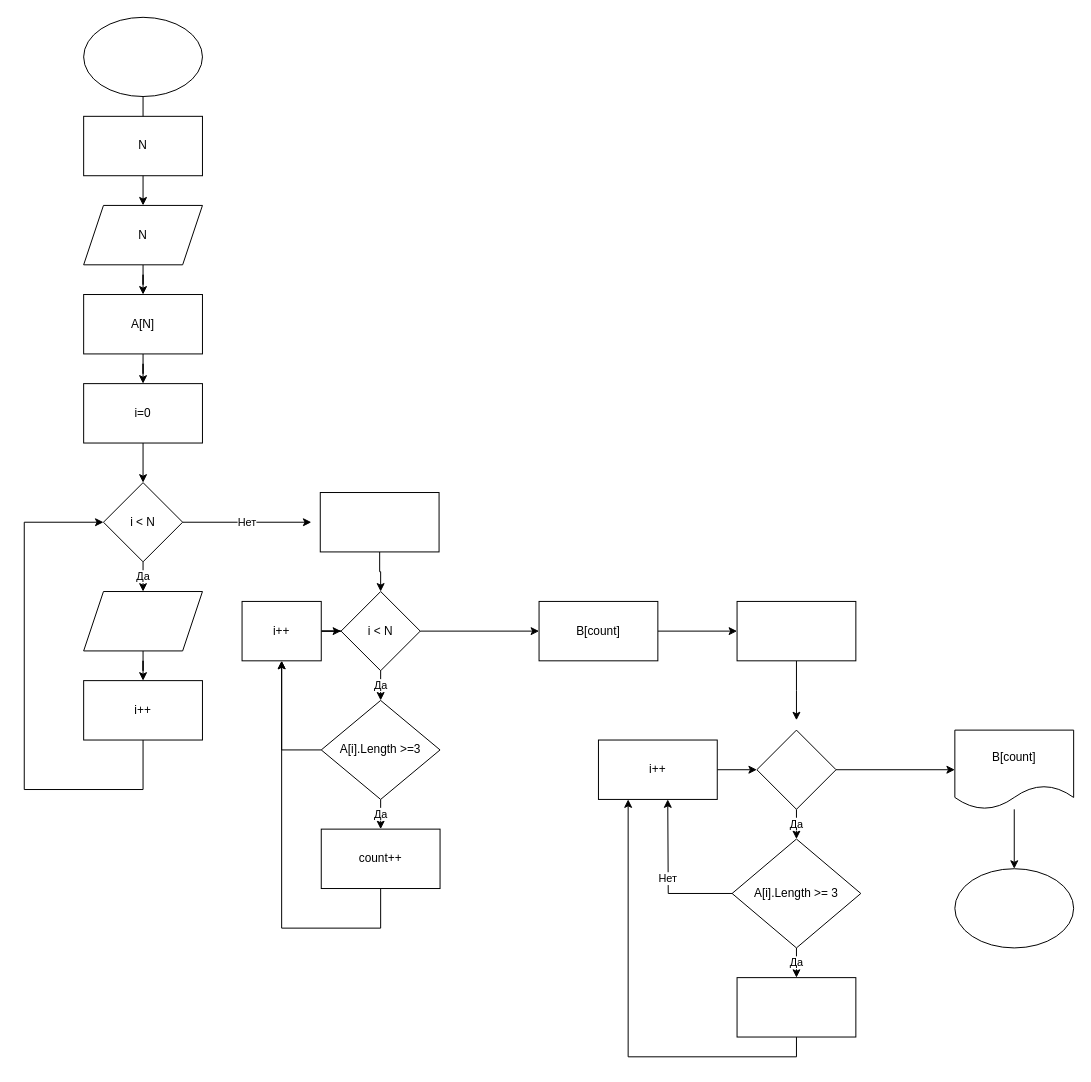
Image size: 1091x1082. Some labels were removed from this diagram. The centre of each missing label's shape, as x and y in pixels:
A[i}: point (142, 621)
B[j] = A[i] j++: point (796, 1007)
Finish: point (1014, 908)
i = 0 count = 0: point (379, 522)
i = 0 j = 0: point (796, 630)
i > N: point (796, 769)
Start: point (142, 56)
